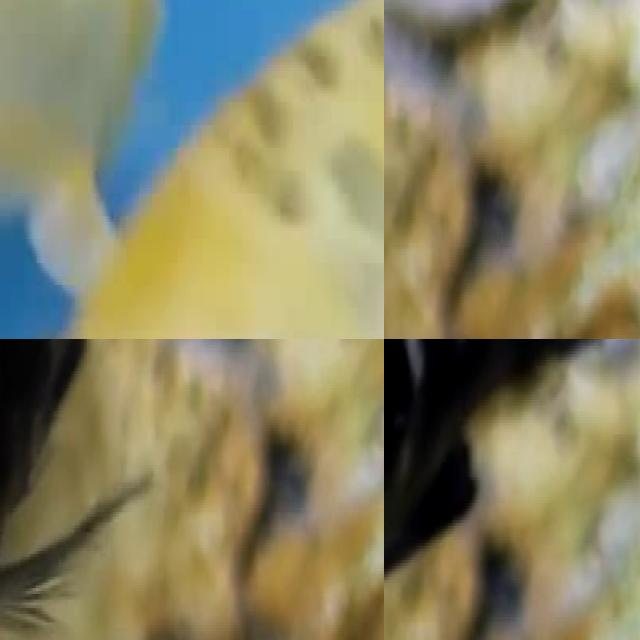fish: (0, 0, 384, 339), (384, 339, 605, 640)
